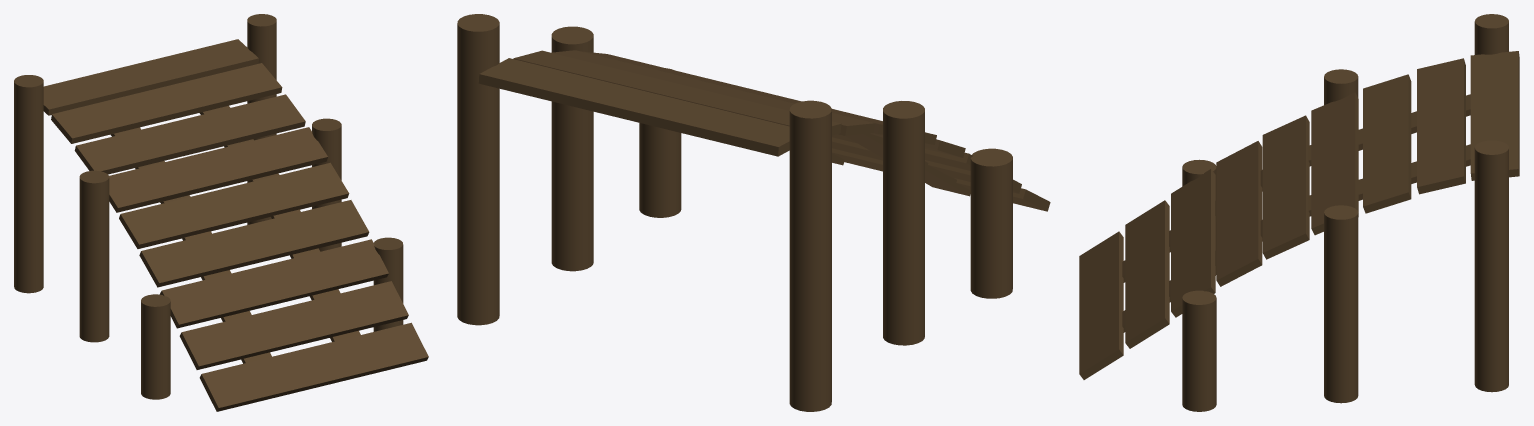
The model's file is Arc.fbx.
3 renders of one model, left to right at view 1: azimuth 30°, elevation 25°; view 2: azimuth 150°, elevation 25°; view 3: azimuth 270°, elevation 25°, orthographic. The views are drawn at different scales.
Parts seen in each view (by area): view 1: pCube9, pCube8, pCube7, pCube6, pCube5, pCube4, pCube3, pCube2, pCylinder2, pCube1, pCylinder3, pCylinder6 (+5 smaller); view 2: pCylinder2, pCylinder1, pCylinder3, pCube1, pCylinder4, pCylinder6, pCube2, pCylinder5, pCube3, pCube4, pCube10, pCube9 (+2 smaller); view 3: pCylinder1, pCylinder4, pCube3, pCube2, pCube5, pCube6, pCube8, pCube9, pCube4, pCube7, pCube1, pCylinder5 (+5 smaller).
Part boxes in pixels (x1,y1,x2,y2): pCube9: [199, 322, 428, 411]; pCube8: [179, 281, 408, 369]; pCube7: [159, 239, 388, 328]; pCube6: [139, 200, 369, 287]; pCube5: [119, 162, 349, 248]; pCube4: [109, 127, 327, 212]; pCube3: [74, 94, 305, 174]; pCube2: [51, 63, 282, 143]; pCylinder2: [14, 75, 43, 293]; pCube1: [43, 39, 258, 115]; pCylinder3: [79, 170, 109, 342]; pCylinder6: [141, 294, 170, 399]; pCylinder2: [789, 100, 831, 411]; pCylinder1: [457, 14, 499, 325]; pCylinder3: [883, 101, 924, 345]; pCube1: [478, 58, 789, 156]; pCylinder4: [551, 26, 593, 271]; pCylinder6: [970, 148, 1012, 298]; pCube2: [513, 50, 841, 135]; pCylinder5: [639, 68, 681, 217]; pCube3: [551, 50, 874, 135]; pCube4: [581, 51, 882, 134]; pCube10: [845, 133, 970, 196]; pCube9: [832, 148, 1050, 211]; pCylinder1: [1474, 140, 1508, 392]; pCylinder4: [1324, 205, 1358, 403]; pCube3: [1363, 74, 1411, 213]; pCube2: [1417, 58, 1465, 194]; pCube5: [1262, 115, 1309, 259]; pCube6: [1216, 141, 1262, 286]; pCube8: [1125, 200, 1169, 348]; pCube9: [1079, 231, 1123, 379]; pCube4: [1311, 92, 1358, 235]; pCube7: [1171, 169, 1215, 317]; pCube1: [1470, 51, 1519, 180]; pCylinder5: [1182, 290, 1216, 411].
Bounding box in the file's own units: 7.13 × 5.88 × 9.11.
